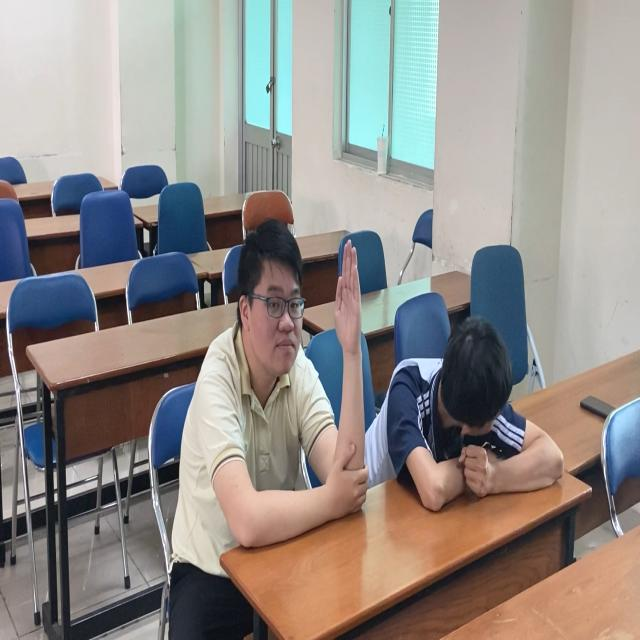raise_hand: (174, 209, 372, 560)
sleep: (387, 302, 572, 498)
